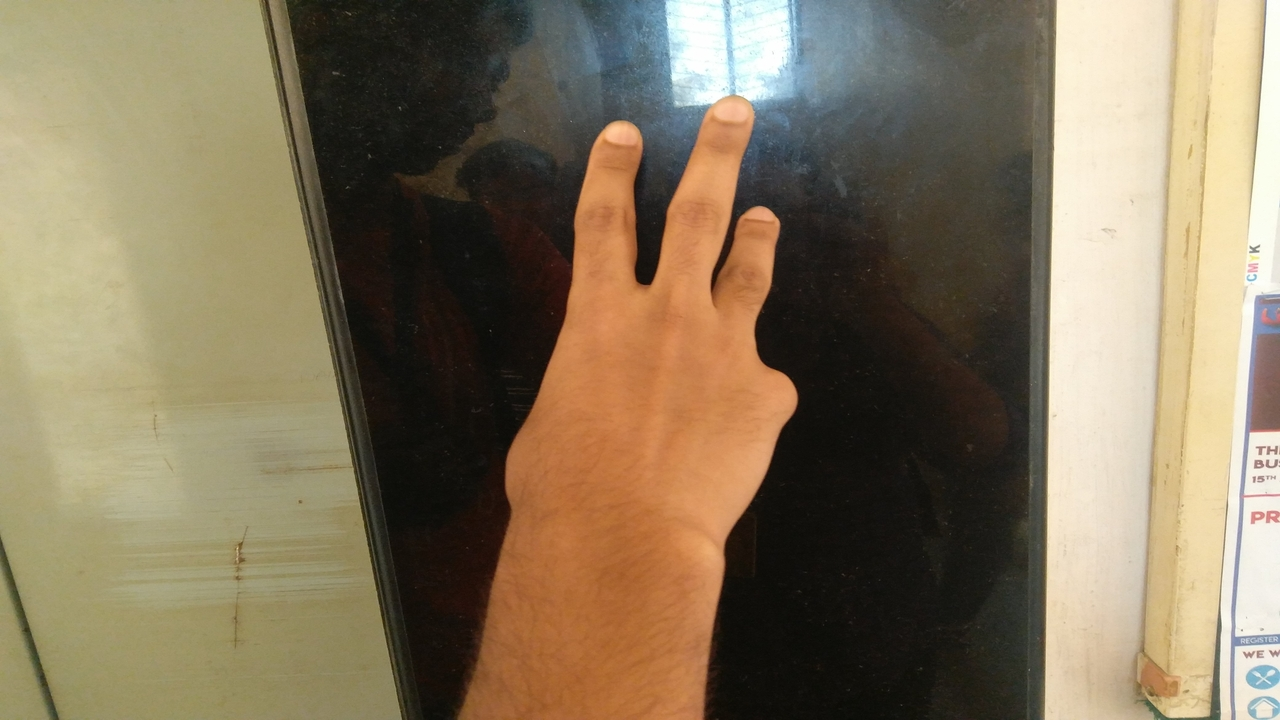fingertip: (582, 112, 646, 164), (696, 90, 760, 140), (733, 202, 792, 242)
